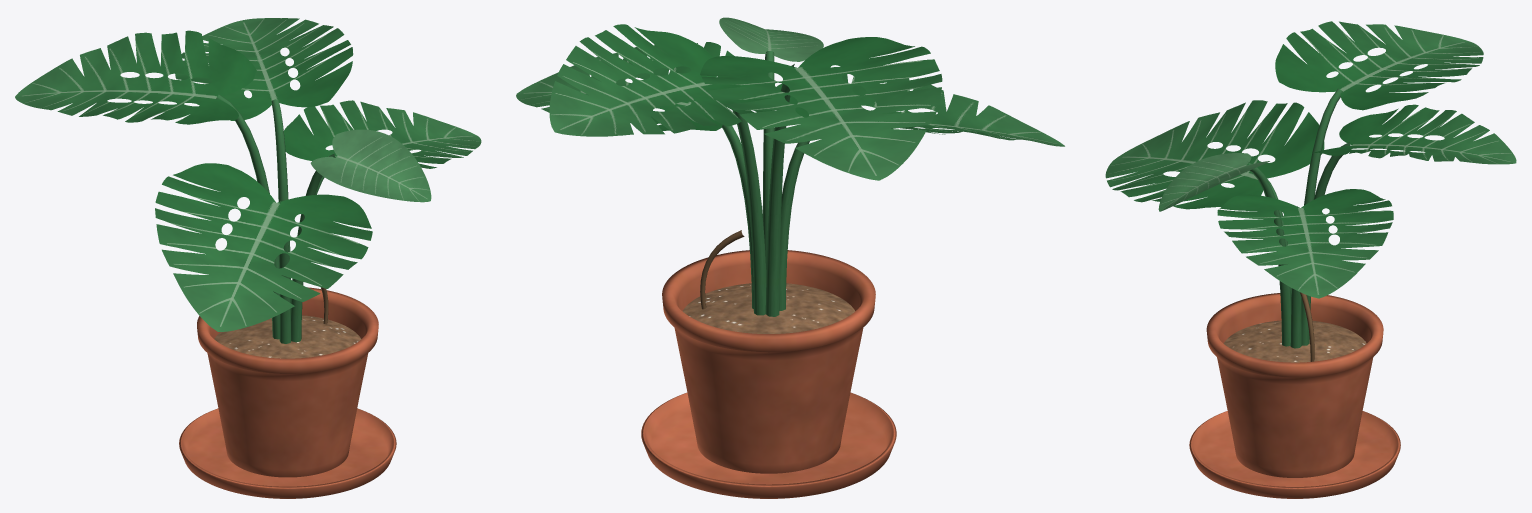
The model's file is monstera.glb.
The picture shows the model from 3 angles, left to right: view 1: azimuth 30°, elevation 25°; view 2: azimuth 150°, elevation 25°; view 3: azimuth 270°, elevation 25°; orthographic projection. The views are drawn at different scales.
Parts seen in each view (by area): view 1: piece-6, piece-0, piece-5, piece-4, piece-1, piece-3, piece-7, piece-2, piece-8; view 2: piece-0, piece-5, piece-4, piece-1, piece-8, piece-2, piece-6, piece-7, piece-3; view 3: piece-0, piece-3, piece-5, piece-6, piece-1, piece-4, piece-8, piece-2, piece-7.
Boxes of the visible parts, <box> form: piece-6: <box>155,163,372,331</box>; piece-0: <box>197,287,378,477</box>; piece-5: <box>15,30,256,124</box>; piece-4: <box>175,18,353,120</box>; piece-1: <box>179,408,396,498</box>; piece-3: <box>283,100,481,168</box>; piece-7: <box>310,129,431,202</box>; piece-2: <box>214,315,361,358</box>; piece-8: <box>216,94,335,343</box>; piece-0: <box>662,250,875,473</box>; piece-5: <box>700,37,942,180</box>; piece-4: <box>549,24,772,136</box>; piece-1: <box>641,392,896,498</box>; piece-8: <box>722,51,809,316</box>; piece-2: <box>682,283,855,333</box>; piece-6: <box>776,67,1064,146</box>; piece-7: <box>719,17,823,61</box>; piece-3: <box>516,42,762,130</box>; piece-0: <box>1206,293,1383,477</box>; piece-3: <box>1217,189,1393,298</box>; piece-5: <box>1275,21,1483,110</box>; piece-6: <box>1105,100,1324,209</box>; piece-1: <box>1189,411,1400,498</box>; piece-4: <box>1312,104,1516,164</box>; piece-8: <box>1248,88,1350,348</box>; piece-2: <box>1223,320,1366,362</box>; piece-7: <box>1158,153,1269,211</box>.
Size of the model in its own units: 0.4132 by 0.3753 by 0.3913.
6 materials, 5 textured.
